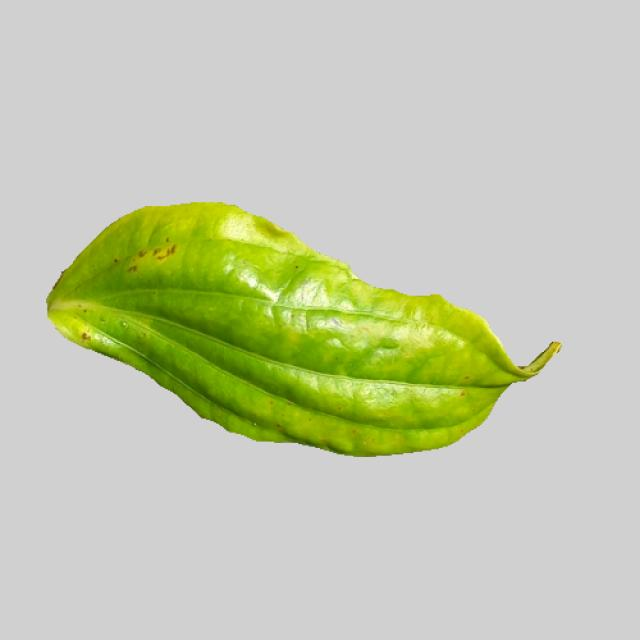yellow-mottle-virus: (45, 199, 559, 453)
